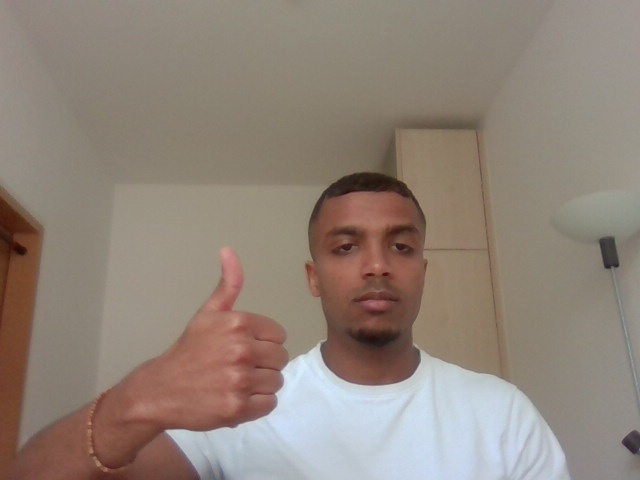yes: (133, 237, 295, 448)
